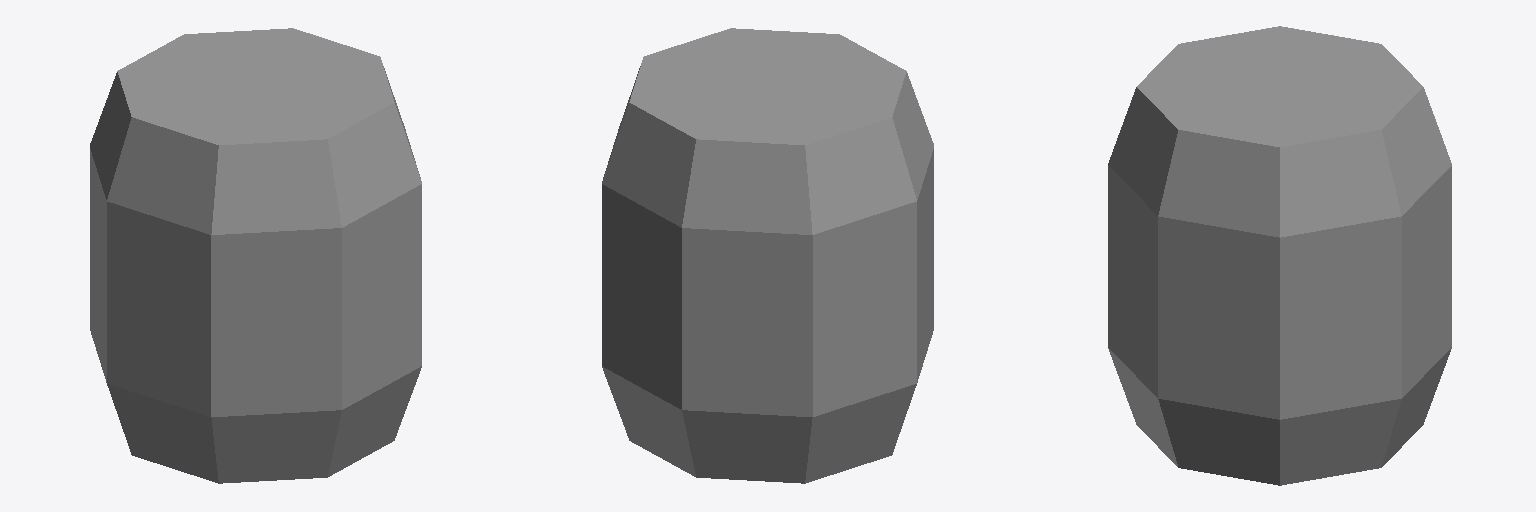
Rendered from barrel.obj.
3 views of the same model, side by side, from view 1: azimuth 30°, elevation 25°; view 2: azimuth 150°, elevation 25°; view 3: azimuth 270°, elevation 25° (orthographic).
Visible parts, largest first — view 1: Barrel; view 2: Barrel; view 3: Barrel.
Boxes of the visible parts, x1,y1,x2,y2 form: Barrel: [90, 28, 421, 483]; Barrel: [602, 28, 933, 483]; Barrel: [1108, 26, 1451, 485].
Size of the model in its own units: 0.96 by 1.04 by 0.96.